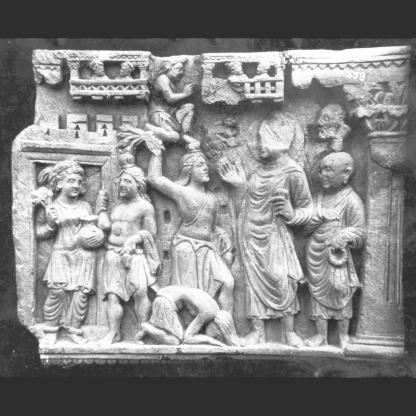buddha-standing: (214, 110, 316, 345)
